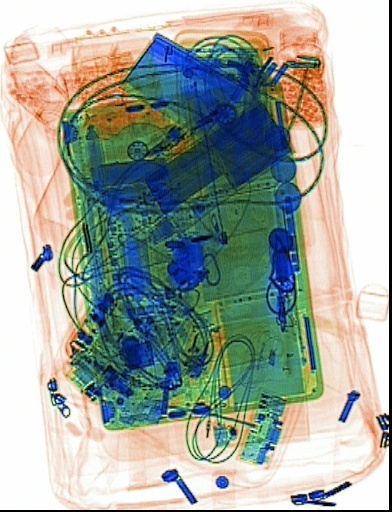powerbank: (133, 102, 297, 235)
